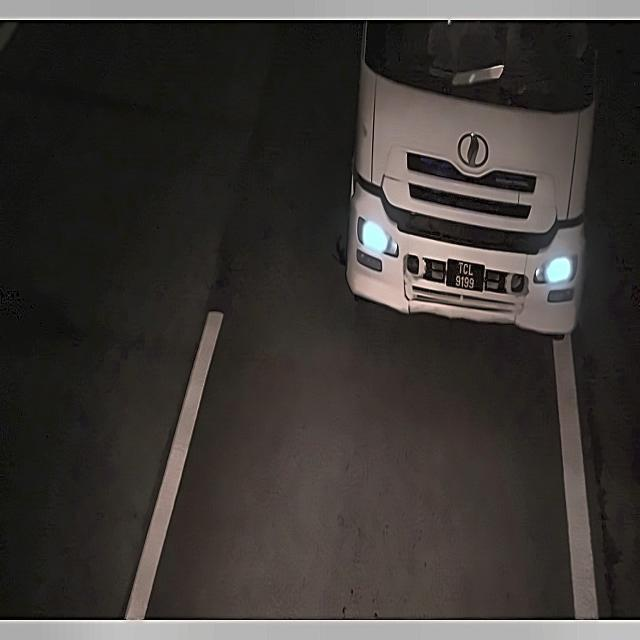car: (445, 258, 486, 290)
